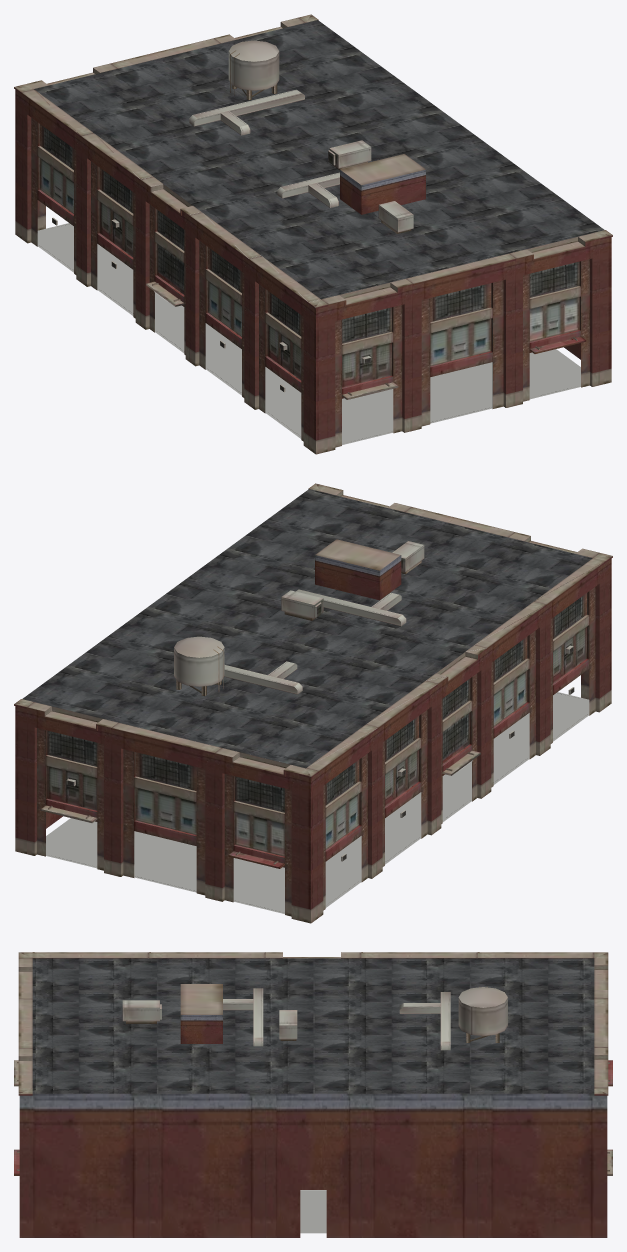
Rendered from ind-building-1.zfix-v14.lod1.glb.
3 views of the same model, one above another, from view 1: azimuth 30°, elevation 25°; view 2: azimuth 150°, elevation 25°; view 3: azimuth 270°, elevation 25° (orthographic). The views are drawn at different scales.
Visible parts, largest first — view 1: Industrial_Building_1_Industrial_Facade_Flr_1_0, Industrial_Building_1_Industrial_Roof_1_0, Walkable floors and stairs; view 2: Industrial_Building_1_Industrial_Facade_Flr_1_0, Industrial_Building_1_Industrial_Roof_1_0, Walkable floors and stairs; view 3: Industrial_Building_1_Industrial_Facade_Flr_1_0, Industrial_Building_1_Industrial_Roof_1_0, Walkable floors and stairs.
Boxes of the visible parts, x1,y1,x2,y2 form: Industrial_Building_1_Industrial_Facade_Flr_1_0: [14, 14, 612, 454]; Industrial_Building_1_Industrial_Roof_1_0: [34, 20, 604, 299]; Walkable floors and stairs: [37, 223, 580, 444]; Industrial_Building_1_Industrial_Facade_Flr_1_0: [14, 483, 612, 923]; Industrial_Building_1_Industrial_Roof_1_0: [22, 489, 592, 768]; Walkable floors and stairs: [46, 692, 589, 913]; Industrial_Building_1_Industrial_Facade_Flr_1_0: [14, 952, 612, 1237]; Industrial_Building_1_Industrial_Roof_1_0: [32, 958, 594, 1093]; Walkable floors and stairs: [300, 1190, 326, 1233].
Bounding box in the file's own units: 27.02 × 16.63 × 47.54.
4 materials, 2 textured.
